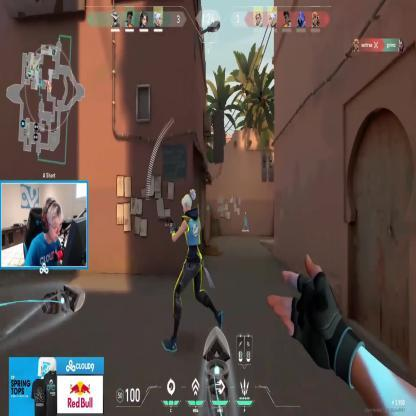enemy: (162, 189, 224, 356)
enemy_head: (180, 190, 198, 215)
